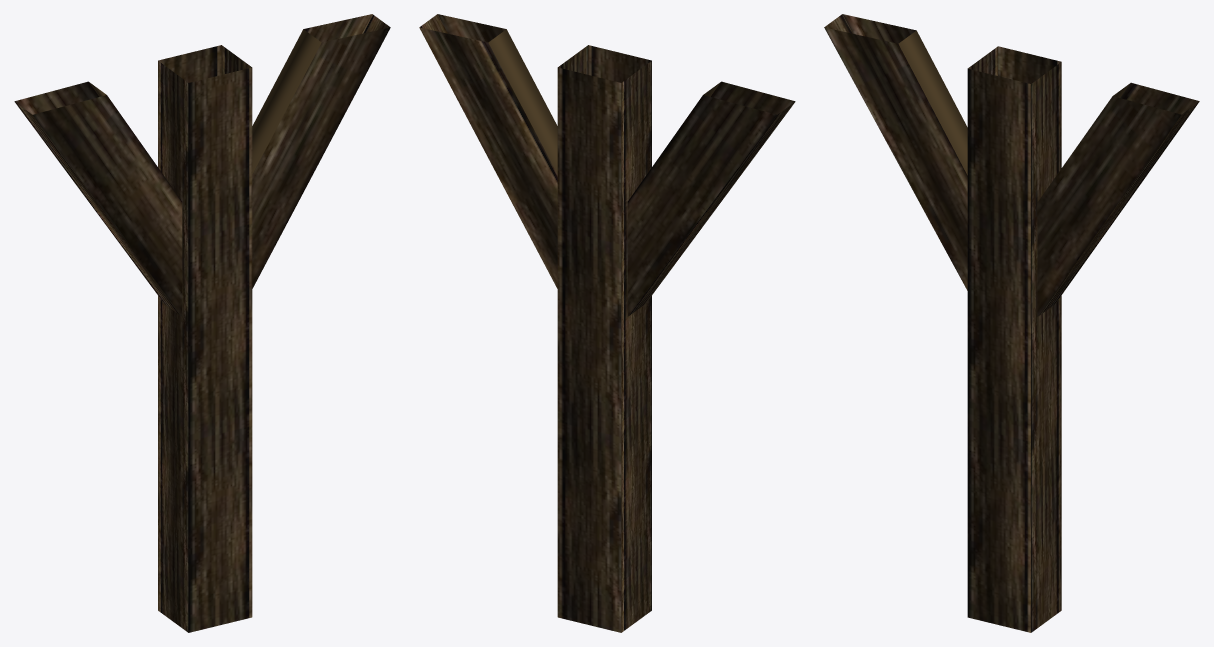
Rendered from OC_LOB_PLANK_INDOOR_BIG.glb.
3 views of the same model, side by side, from view 1: azimuth 30°, elevation 25°; view 2: azimuth 150°, elevation 25°; view 3: azimuth 330°, elevation 25° (orthographic).
Visible parts, largest first — view 1: Mesh; view 2: Mesh; view 3: Mesh.
Part boxes in pixels (x1=…): Mesh: x1=14, y1=14, x2=390, y2=632; Mesh: x1=419, y1=14, x2=795, y2=632; Mesh: x1=824, y1=14, x2=1199, y2=632.
Bounding box in the file's own units: 3.37 × 4.97 × 0.5.
1 material, 1 textured.
